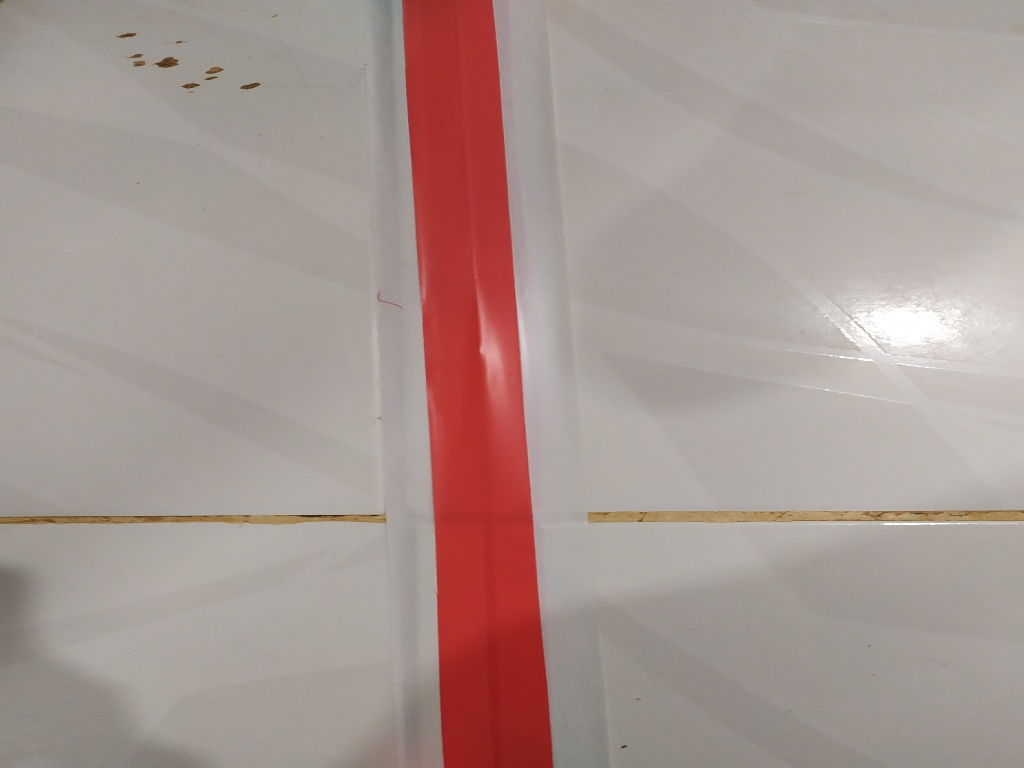reta: (357, 1, 610, 768)
